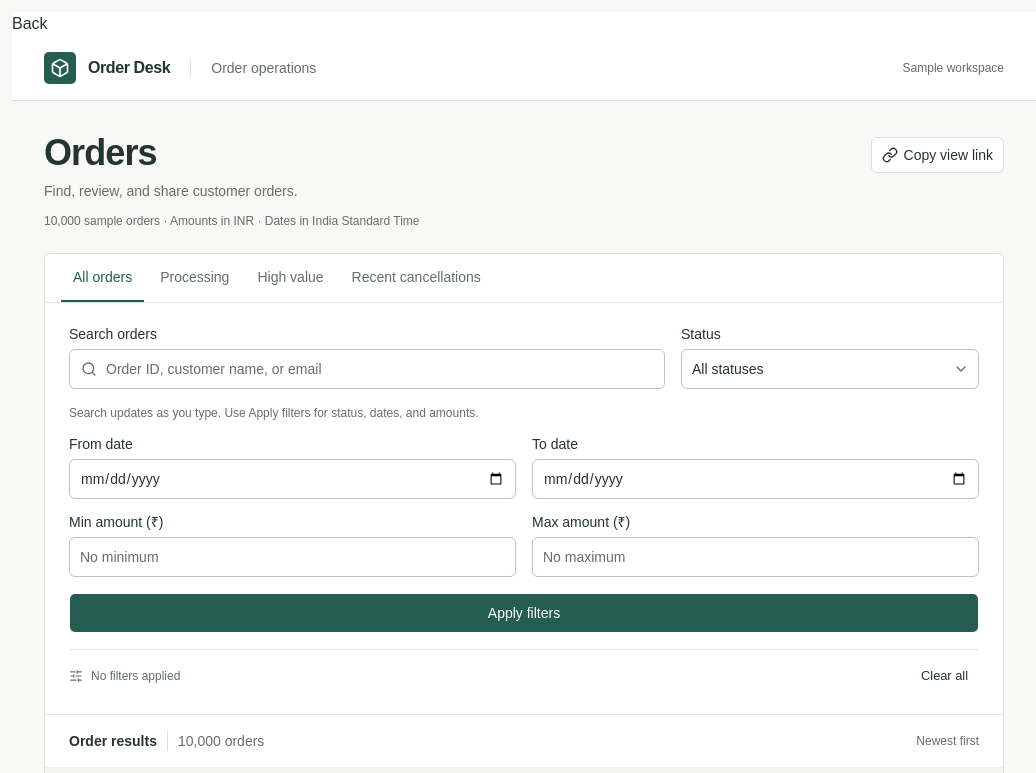
applying filters preserves the search input and its focus
Type "ORD-00001" into the search field labelled "Search orders" at (367, 369), box [69,349,665,389]
Then press Enter
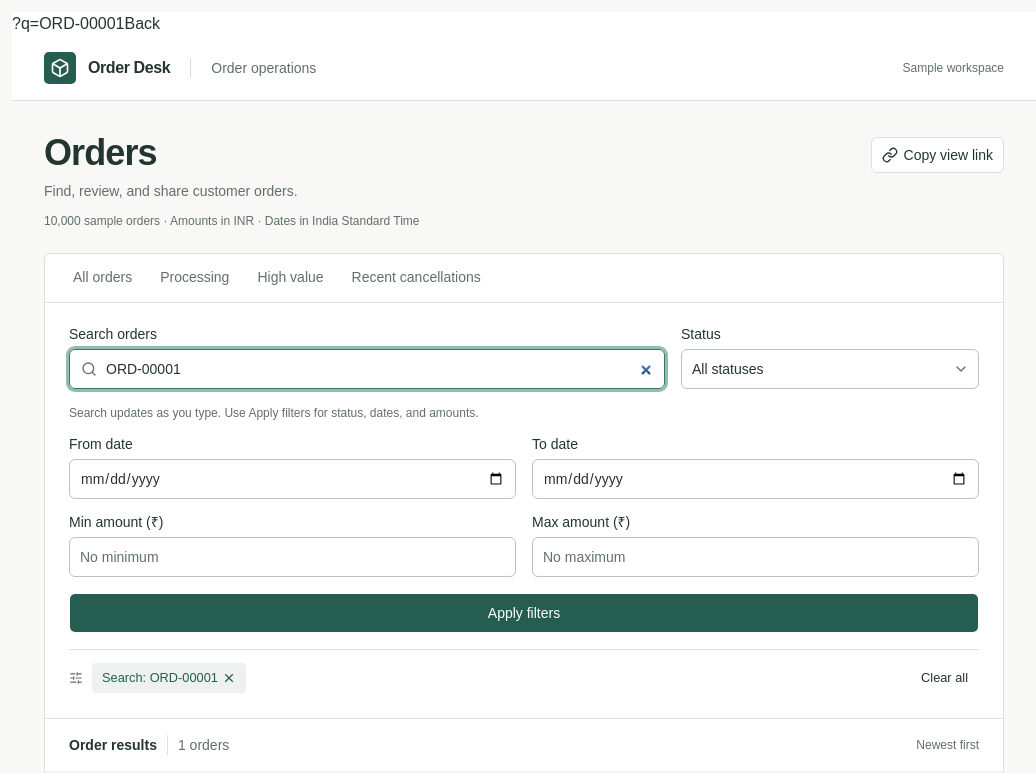
Check: the text named "Current URL" shows "q=ORD-00001", box [12,15,124,32]
